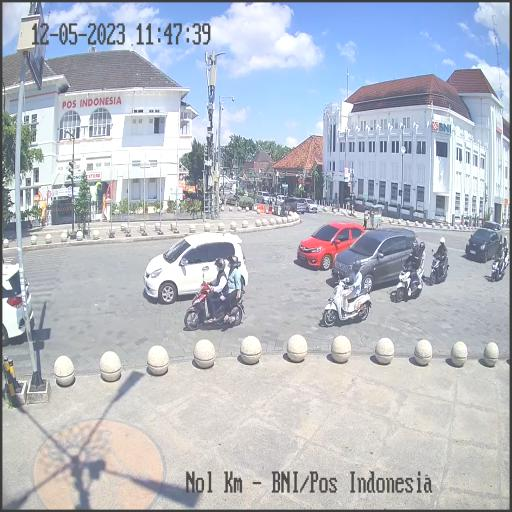mobil: (145, 228, 249, 309), (328, 225, 424, 295), (292, 218, 368, 272), (462, 228, 500, 264)
motor: (184, 269, 249, 337), (321, 270, 373, 328), (395, 256, 430, 305), (430, 246, 449, 288), (490, 253, 506, 283)
